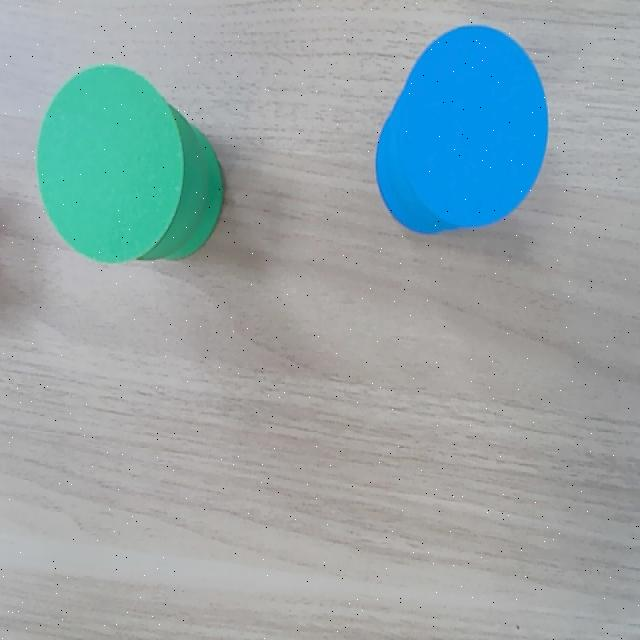b: (398, 25, 550, 228)
g: (35, 63, 184, 264)
